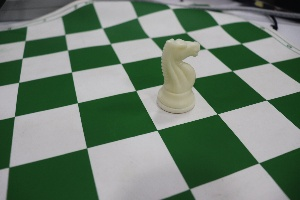white_horse: (151, 30, 207, 124)
